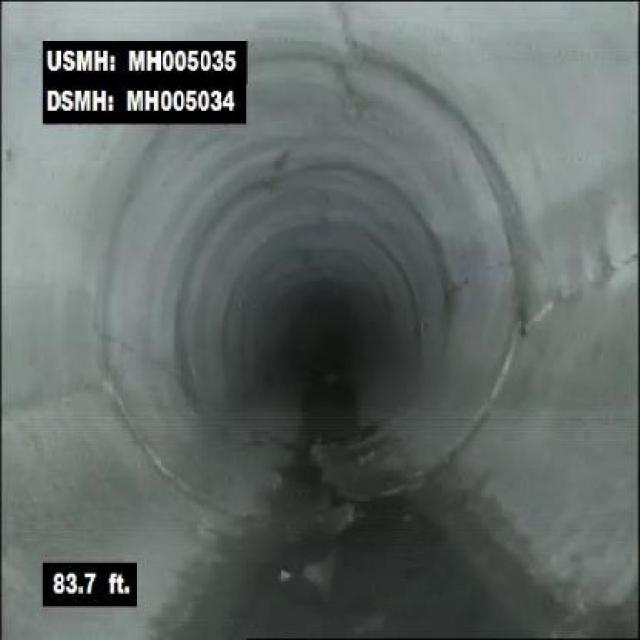Crack: (530, 240, 638, 349), (318, 0, 386, 132), (0, 363, 106, 432), (300, 438, 375, 528), (451, 254, 514, 315)
